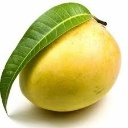mango: (19, 13, 122, 113)
